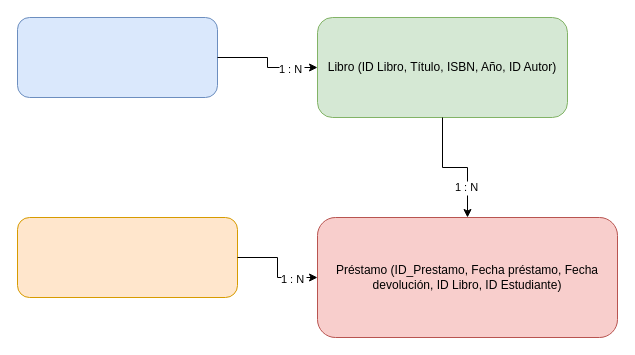
The diagram is 635 pixels wide and 355 high, and some of its shapes have lost their labels. Here are the shapes that lost their labels. From the top down, the centre of each, then its label:
At point 117,57: "Autor (ID, Nombre, Nacionalidad)".
At point 127,257: "Estudiante (ID Estudiante, Nombre, Grado)".
